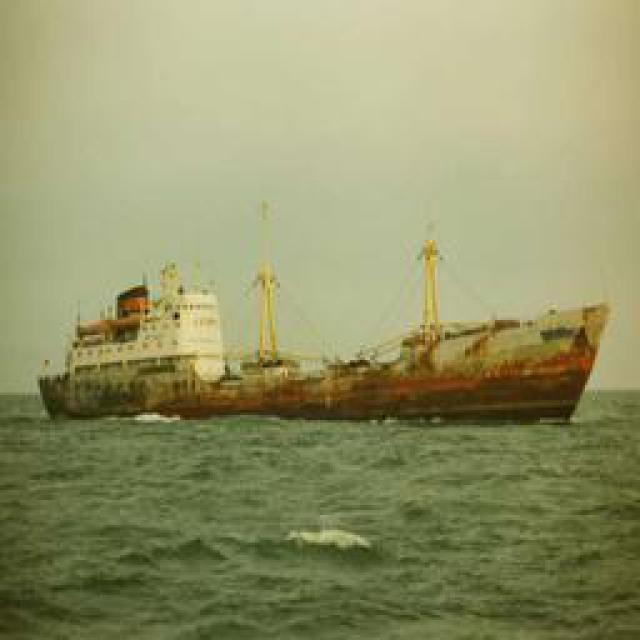Ship: (34, 256, 617, 429)
